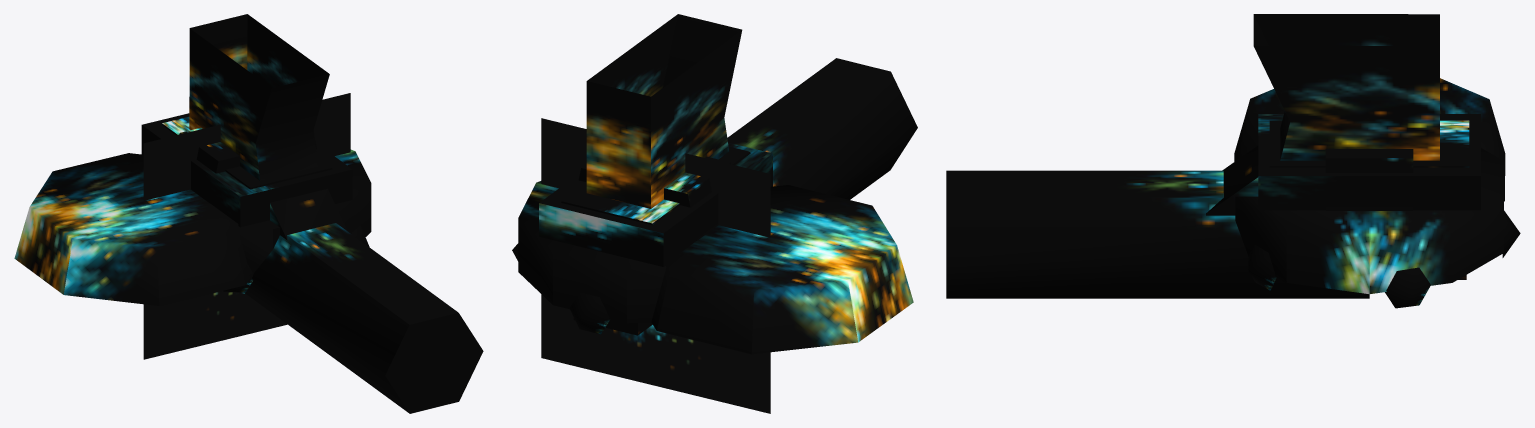
The model's file is datan_common__01_RArm_d6883bee.obj.
The picture shows the model from 3 angles, left to right: view 1: azimuth 30°, elevation 25°; view 2: azimuth 150°, elevation 25°; view 3: azimuth 270°, elevation 25°; orthographic projection. The views are drawn at different scales.
Visible parts, largest first — view 1: datan_common__01_RArm_d6883bee_mesh00, datan_common__01_RArm_d6883bee_mesh10, datan_common__01_RArm_d6883bee_mesh01, datan_common__01_RArm_d6883bee_mesh08, datan_common__01_RArm_d6883bee_mesh04, datan_common__01_RArm_d6883bee_mesh02, datan_common__01_RArm_d6883bee_mesh05; view 2: datan_common__01_RArm_d6883bee_mesh00, datan_common__01_RArm_d6883bee_mesh01, datan_common__01_RArm_d6883bee_mesh08, datan_common__01_RArm_d6883bee_mesh10, datan_common__01_RArm_d6883bee_mesh02, datan_common__01_RArm_d6883bee_mesh04, datan_common__01_RArm_d6883bee_mesh05, datan_common__01_RArm_d6883bee_mesh14; view 3: datan_common__01_RArm_d6883bee_mesh10, datan_common__01_RArm_d6883bee_mesh01, datan_common__01_RArm_d6883bee_mesh02, datan_common__01_RArm_d6883bee_mesh04, datan_common__01_RArm_d6883bee_mesh05, datan_common__01_RArm_d6883bee_mesh00, datan_common__01_RArm_d6883bee_mesh14.
Boxes of the visible parts, x1=… form: datan_common__01_RArm_d6883bee_mesh00: x1=14, y1=153, x2=249, y2=305; datan_common__01_RArm_d6883bee_mesh10: x1=244, y1=223, x2=483, y2=413; datan_common__01_RArm_d6883bee_mesh01: x1=189, y1=14, x2=347, y2=240; datan_common__01_RArm_d6883bee_mesh08: x1=143, y1=93, x2=350, y2=359; datan_common__01_RArm_d6883bee_mesh04: x1=141, y1=113, x2=352, y2=227; datan_common__01_RArm_d6883bee_mesh02: x1=237, y1=149, x2=371, y2=273; datan_common__01_RArm_d6883bee_mesh05: x1=162, y1=116, x2=332, y2=203; datan_common__01_RArm_d6883bee_mesh00: x1=651, y1=185, x2=913, y2=354; datan_common__01_RArm_d6883bee_mesh01: x1=573, y1=14, x2=742, y2=335; datan_common__01_RArm_d6883bee_mesh08: x1=541, y1=118, x2=770, y2=413; datan_common__01_RArm_d6883bee_mesh10: x1=727, y1=58, x2=917, y2=199; datan_common__01_RArm_d6883bee_mesh02: x1=518, y1=181, x2=666, y2=323; datan_common__01_RArm_d6883bee_mesh04: x1=539, y1=142, x2=772, y2=266; datan_common__01_RArm_d6883bee_mesh05: x1=561, y1=146, x2=750, y2=240; datan_common__01_RArm_d6883bee_mesh14: x1=512, y1=243, x2=610, y2=334; datan_common__01_RArm_d6883bee_mesh10: x1=946, y1=170, x2=1369, y2=298; datan_common__01_RArm_d6883bee_mesh01: x1=1206, y1=14, x2=1466, y2=279; datan_common__01_RArm_d6883bee_mesh02: x1=1235, y1=148, x2=1503, y2=294; datan_common__01_RArm_d6883bee_mesh04: x1=1258, y1=114, x2=1480, y2=210; datan_common__01_RArm_d6883bee_mesh05: x1=1269, y1=120, x2=1469, y2=210; datan_common__01_RArm_d6883bee_mesh00: x1=1234, y1=78, x2=1505, y2=201; datan_common__01_RArm_d6883bee_mesh14: x1=1248, y1=210, x2=1520, y2=308.
Bounding box in the file's own units: 2.04 × 1.78 × 2.82.
1 material, 1 textured.
